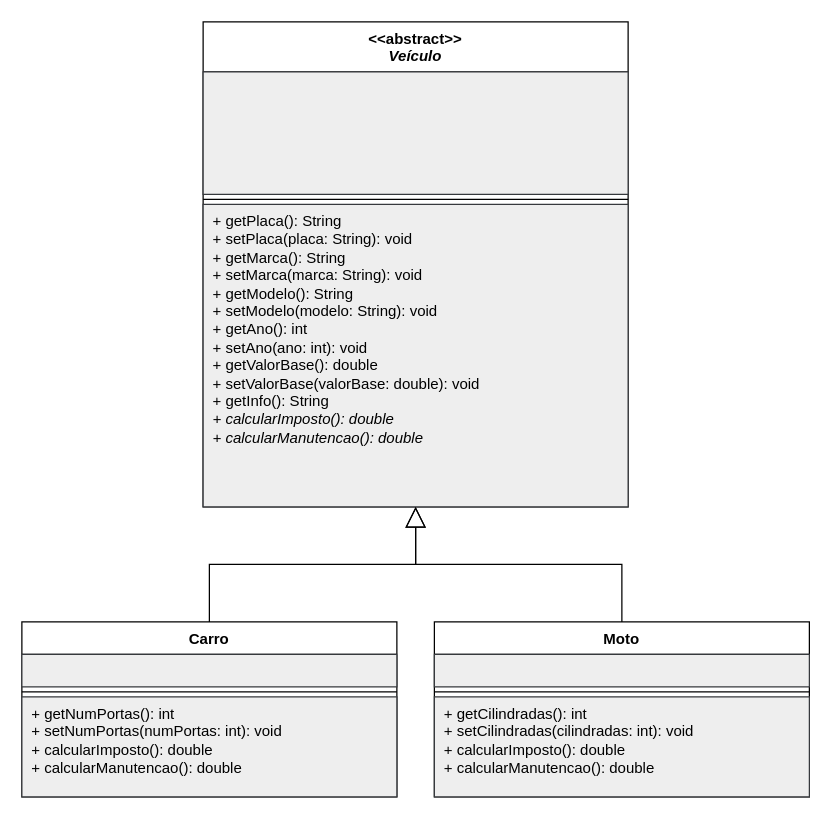
The diagram is 831 pixels wide and 819 high, and some of its shapes have lost their labels. The centre of each missing label's shape, as x and y in pixels:
- cilindradas: int: [621,670]
- numPortas: int: [209,670]
- placa: String - marca: String - modelo: String - ano: int # valorBase: double: [415,132]
